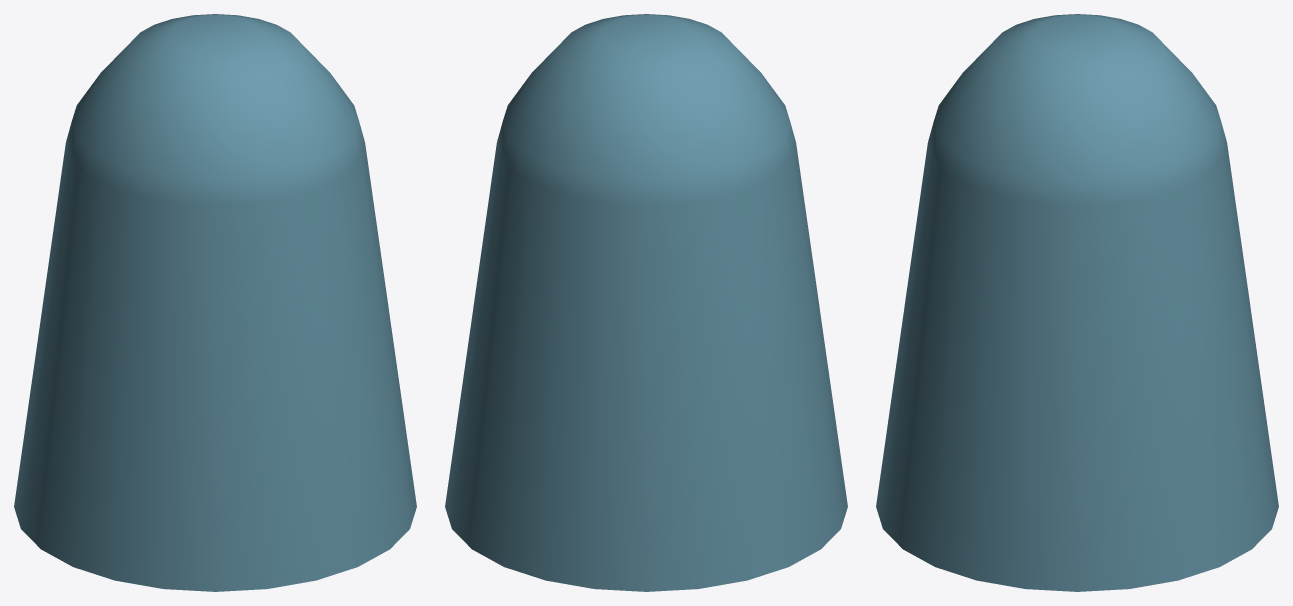
The model's file is earPlug.fbx.
The picture shows the model from 3 angles, left to right: view 1: azimuth 30°, elevation 25°; view 2: azimuth 150°, elevation 25°; view 3: azimuth 270°, elevation 25°; orthographic projection.
Parts seen in each view (by area): view 1: Ear Plug; view 2: Ear Plug; view 3: Ear Plug.
Boxes of the visible parts, x1=… form: Ear Plug: x1=14, y1=14, x2=416, y2=591; Ear Plug: x1=445, y1=14, x2=847, y2=591; Ear Plug: x1=876, y1=14, x2=1278, y2=591.
Bounding box in the file's own units: 19.5 × 25.25 × 19.5.
